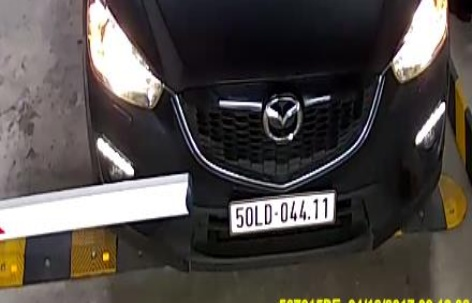plate: (226, 189, 338, 234)
